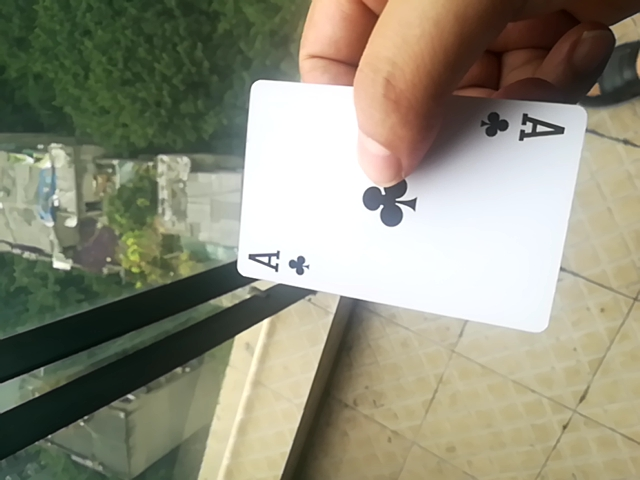mh a: (228, 73, 599, 332)
